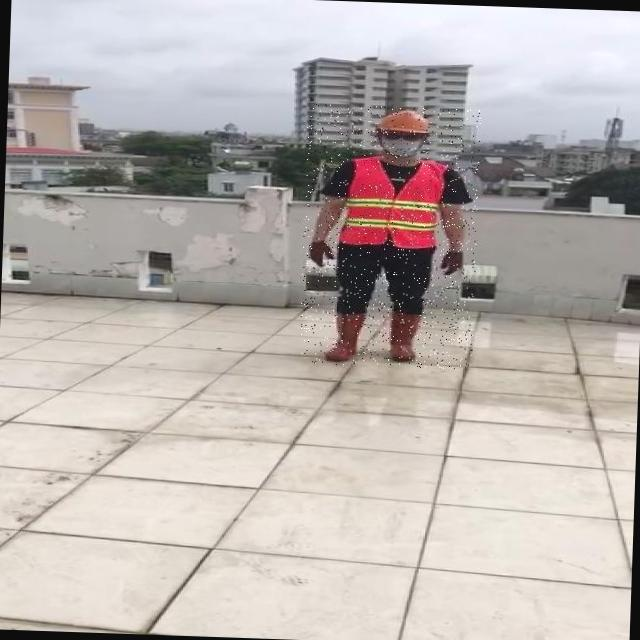boots: (324, 308, 365, 362), (386, 310, 426, 362)
helmet: (376, 108, 430, 135)
vest: (340, 157, 443, 249)
